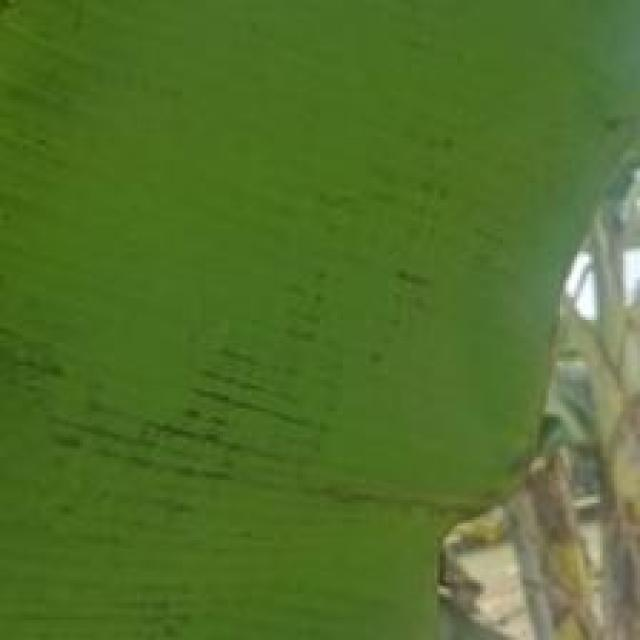Black_leaf_spot: (0, 0, 637, 633)
